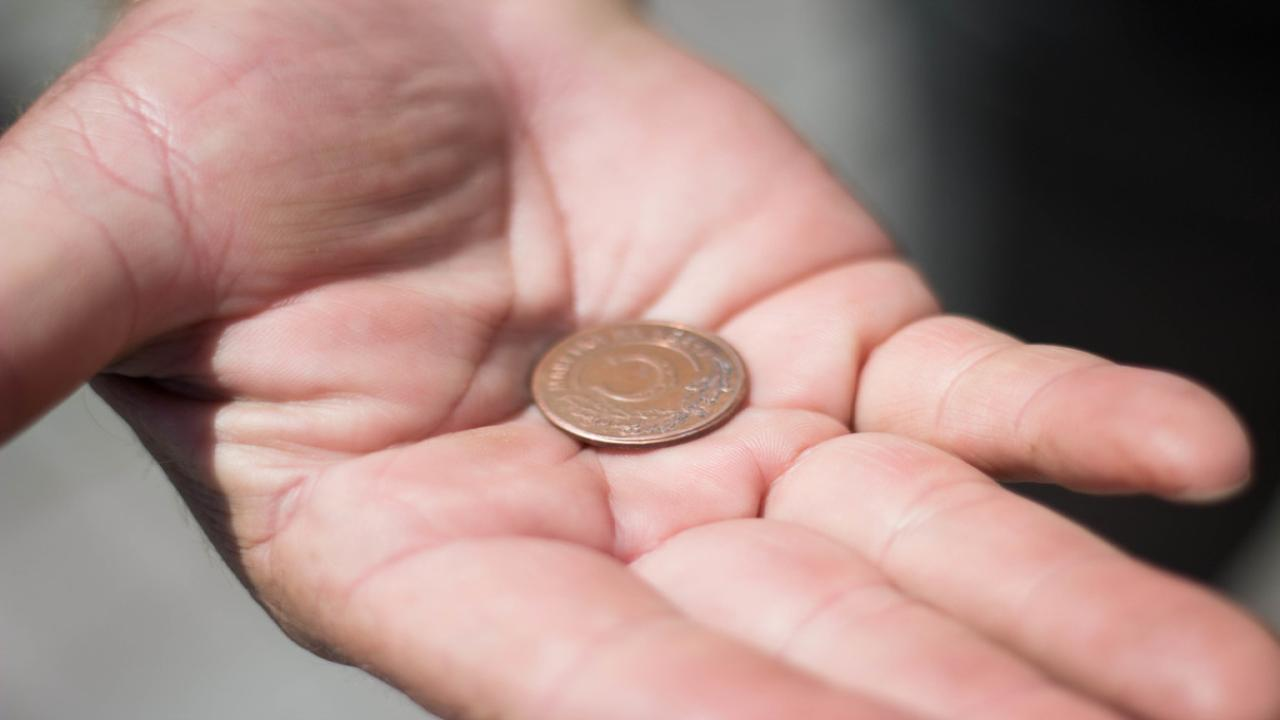coin: (534, 318, 751, 449)
